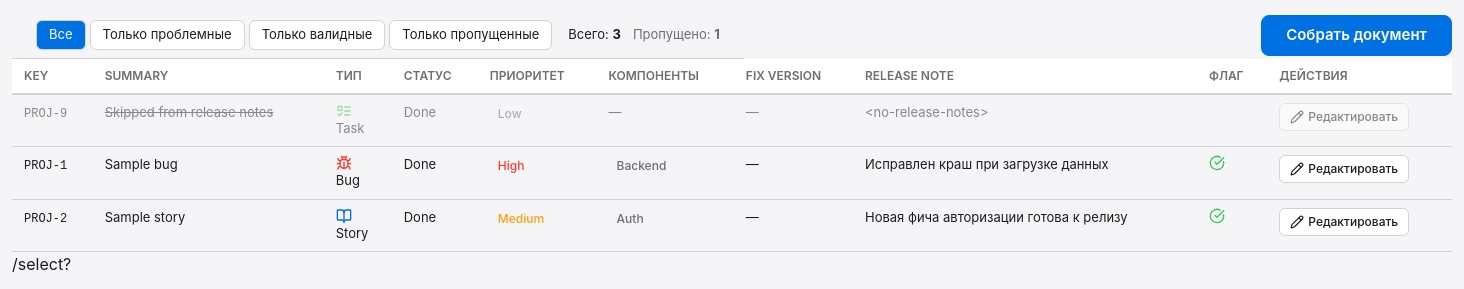
Test: IssueTable — skip filter (D-11, SKIP-02) › «Проблемные» does NOT show the skip issue (D-11 regression guard — skip is not a problem)
The image size is (1464, 289).
Click the button "Только проблемные".
click(167, 35)  # box top-left (90, 20), bottom-right (245, 50)
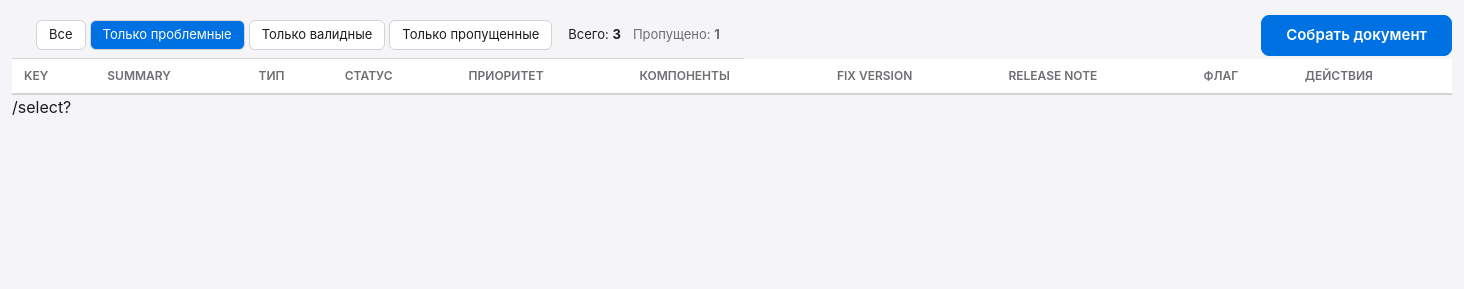
Expected: the text "PROJ-9" is gone
